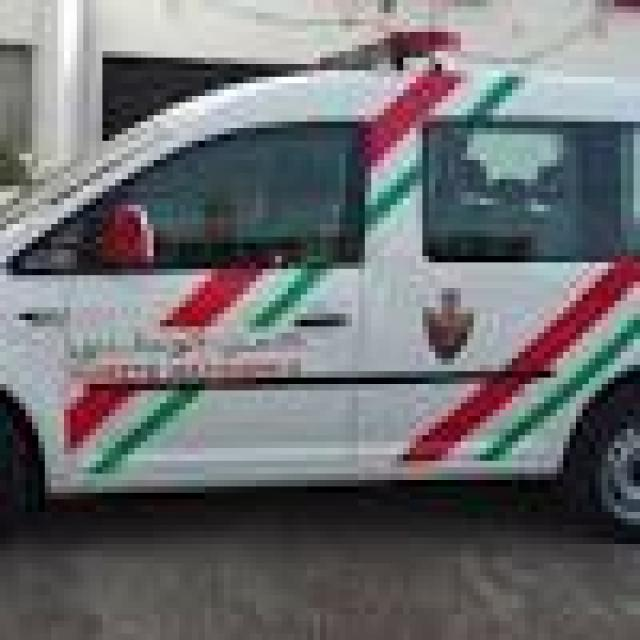police: (6, 33, 640, 521)
